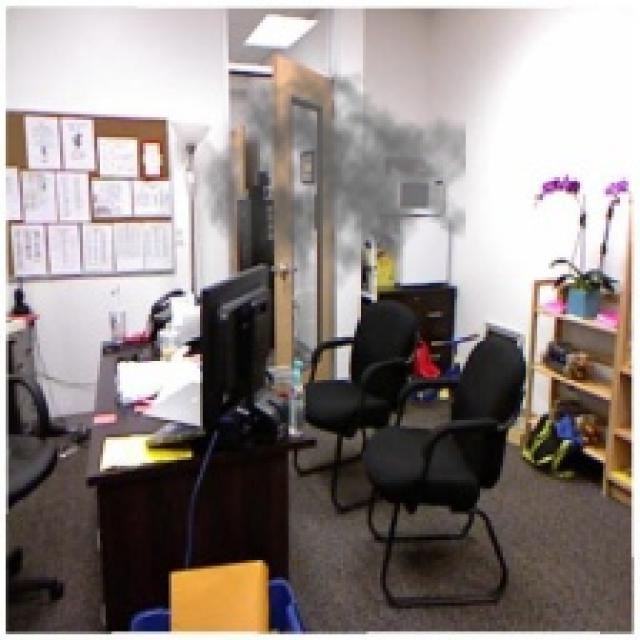smoke: (203, 60, 466, 303)
